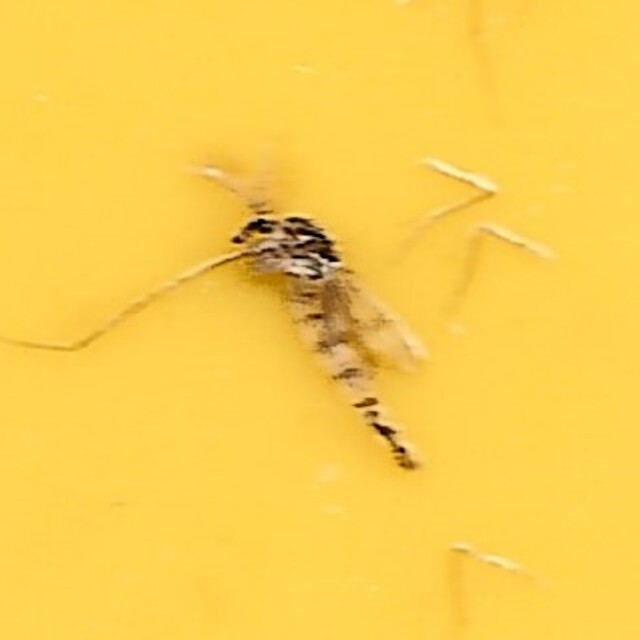Nematocera: (201, 166, 439, 474)
